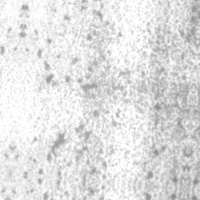pitted_surface: (20, 2, 199, 188)
